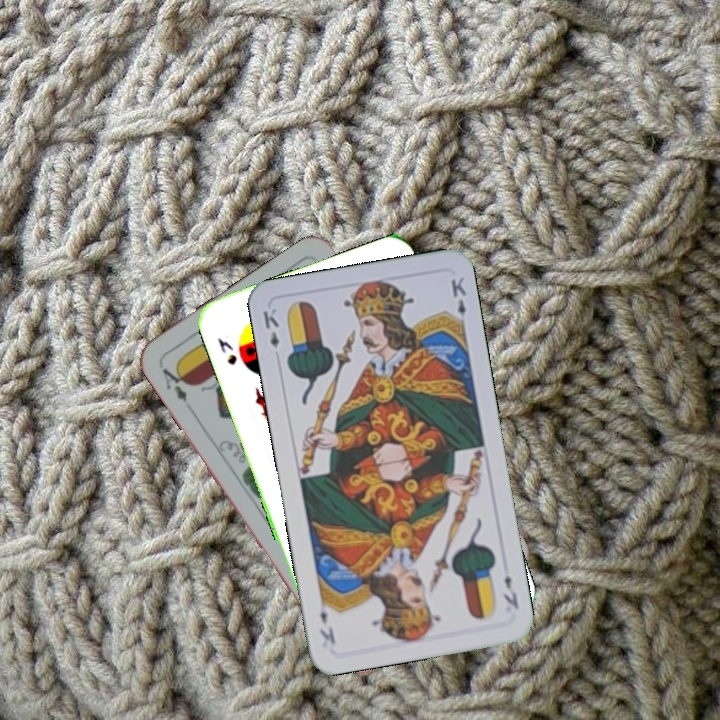EA: (158, 360, 191, 405)
EK: (259, 304, 282, 351), (499, 571, 522, 612)
SK: (213, 333, 240, 368)
